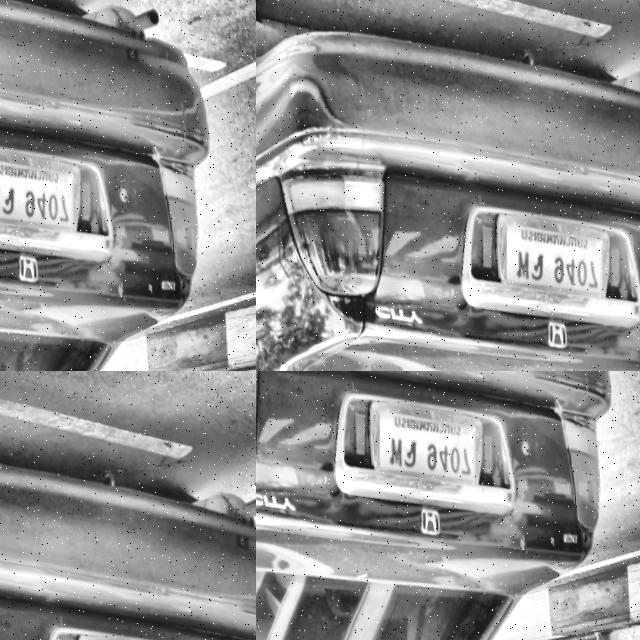license-plate: (360, 389, 486, 497)
